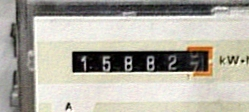1: (78, 54, 88, 72)
2: (166, 54, 177, 72)
5: (100, 56, 111, 73)
7: (188, 61, 199, 72)
8: (144, 54, 155, 73), (121, 55, 133, 72)
screen: (62, 41, 218, 85)
